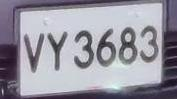3: (137, 20, 161, 69), (71, 26, 96, 73)
6: (95, 25, 119, 71)
8: (117, 23, 140, 70)
V: (22, 29, 46, 76)
Y: (45, 29, 71, 73)
